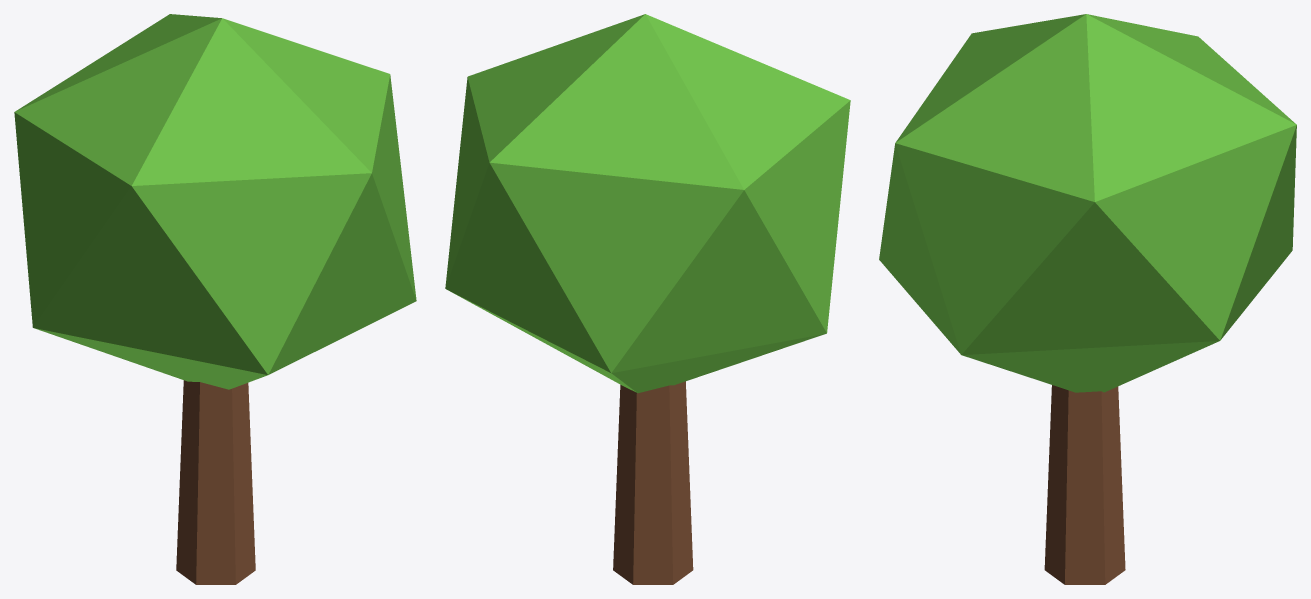
The model's file is tree_round_0.glb.
3 renders of one model, left to right at view 1: azimuth 30°, elevation 25°; view 2: azimuth 150°, elevation 25°; view 3: azimuth 270°, elevation 25°, orthographic.
Visible parts, largest first — view 1: tree_round_0; view 2: tree_round_0; view 3: tree_round_0.
Boxes of the visible parts, x1=… form: tree_round_0: x1=14, y1=14, x2=416, y2=584; tree_round_0: x1=445, y1=14, x2=850, y2=584; tree_round_0: x1=879, y1=14, x2=1296, y2=584.
Size of the model in its own units: 1.87 by 2.75 by 1.86.
